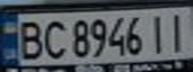4: (106, 14, 130, 57)
6: (124, 12, 148, 56)
8: (66, 16, 90, 58)
9: (87, 16, 109, 57)
B: (12, 17, 48, 61)
C: (39, 17, 69, 60)
I: (163, 9, 190, 54), (145, 11, 172, 54)
